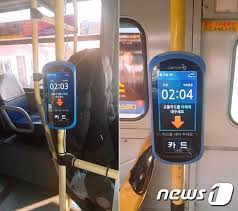terminal: (145, 50, 210, 167)
